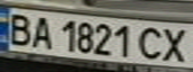1: (112, 21, 136, 59), (54, 17, 78, 52)
2: (90, 20, 115, 56)
8: (72, 19, 96, 55)
A: (27, 14, 57, 50)
B: (3, 10, 36, 47)
C: (136, 24, 169, 61)
X: (157, 25, 193, 64)
